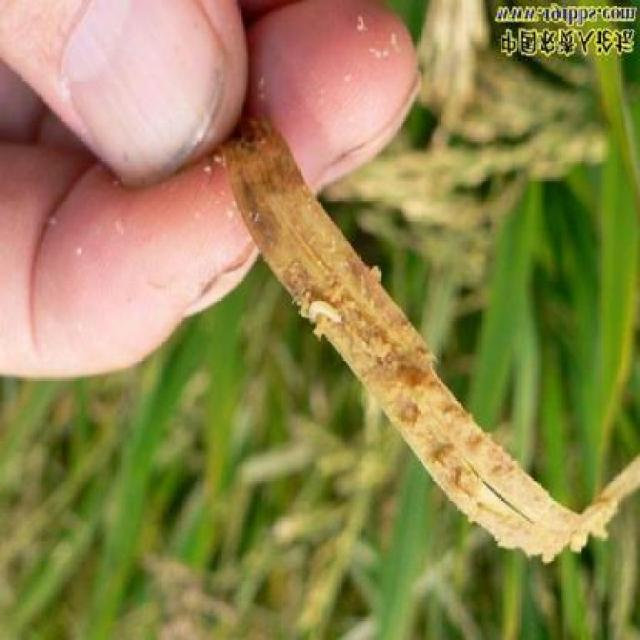whorl-maggot: (306, 289, 346, 340)
